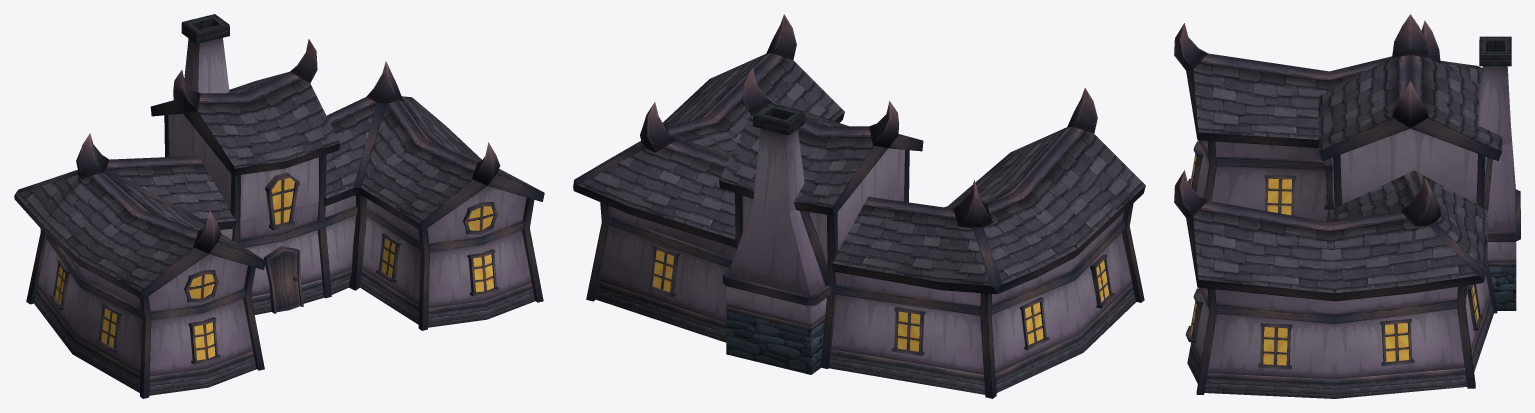
File: Large_House_B_Chimney.fbx
The picture shows the model from 3 angles, left to right: view 1: azimuth 30°, elevation 25°; view 2: azimuth 150°, elevation 25°; view 3: azimuth 270°, elevation 25°; orthographic projection. The views are drawn at different scales.
Visible parts, largest first — view 1: Large_House_B_Chimney; view 2: Large_House_B_Chimney; view 3: Large_House_B_Chimney.
Boxes of the visible parts, bbox=[...] form: Large_House_B_Chimney: bbox=[14, 14, 544, 398]; Large_House_B_Chimney: bbox=[573, 14, 1145, 398]; Large_House_B_Chimney: bbox=[1174, 14, 1520, 398].
Bounding box in the file's own units: 489 × 255 × 328.
1 material, 1 textured.
